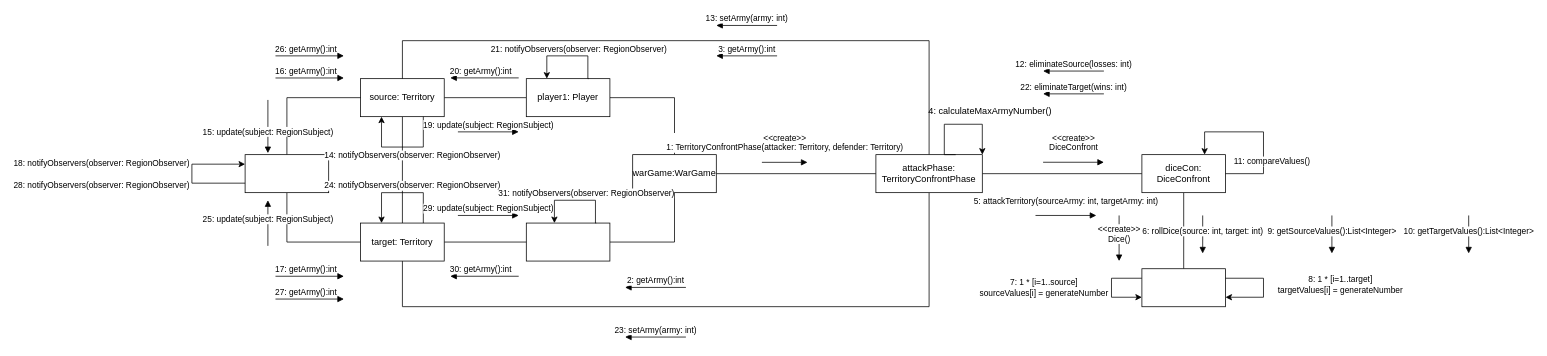
The diagram is 1547 pixels wide and 356 high, and some of its shapes have lost their labels. The box of each missing label's shape, as (x1, y1, x2, y2) in pixels:
dice: Dice: (1141, 268, 1226, 307)
player2: Player: (526, 222, 610, 261)
reg: Region: (244, 154, 329, 193)
